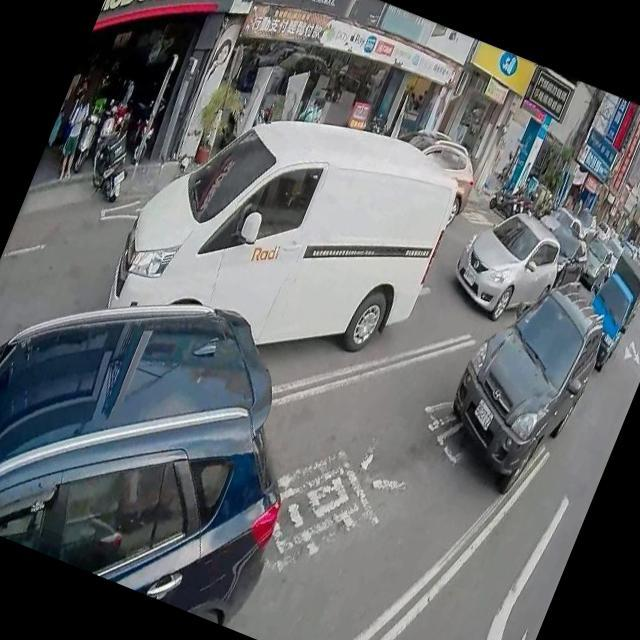person: (40, 87, 94, 184), (104, 75, 136, 129), (289, 96, 313, 124), (306, 94, 324, 121)
